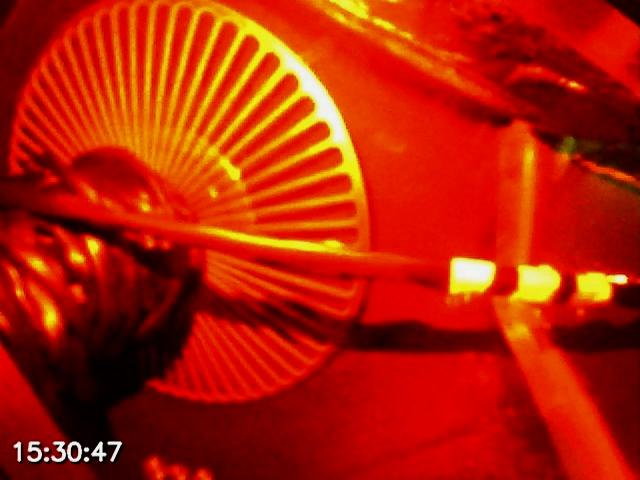white-dots: (448, 256, 613, 306)
